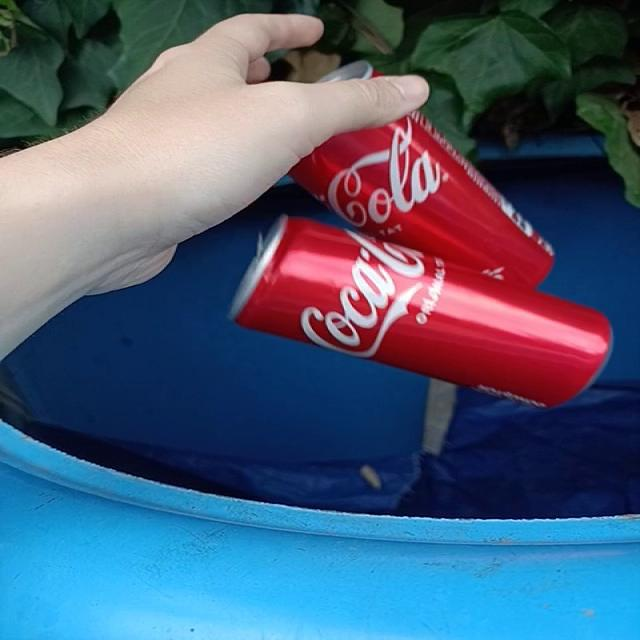metal: (231, 112, 612, 406)
